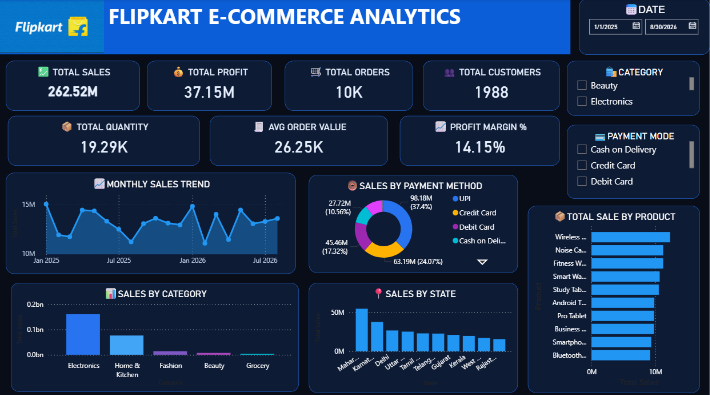

This screenshot's page, from the dashboard's own definition file:
{"tool":"powerbi","page":{"name":"Executive Dashboard","canvas":[1280,720],"ordinal":0},"visuals":[{"type":"card","title":"💹 TOTAL SALES","fields":{"Values":["Ecommerce_Data$.Total Sales"]},"box":[12.6,111.6,241.1,90],"z":0},{"type":"card","title":"💰 TOTAL PROFIT","fields":{"Values":["Ecommerce_Data$.Total Profit"]},"box":[266.3,111.6,224.9,90],"z":1000},{"type":"card","title":"🛒 TOTAL ORDERS","fields":{"Values":["Ecommerce_Data$.Total Orders"]},"box":[514.6,111.6,230.3,90],"z":2000},{"type":"card","title":"👥 TOTAL CUSTOMERS","fields":{"Values":["Ecommerce_Data$.Total Customers"]},"box":[762.9,111.6,246.5,90],"z":3000},{"type":"card","title":"📦 TOTAL QUANTITY","fields":{"Values":["Ecommerce_Data$.Total Quantity"]},"box":[16.2,210.5,345.5,90],"z":4000},{"type":"card","title":"📈 PROFIT MARGIN %","fields":{"Values":["Ecommerce_Data$.Profit Margin %"]},"box":[721.5,210.5,287.9,90],"z":5000},{"type":"textbox","box":[0,0,1029.2,100.8],"z":6000},{"type":"slicer","title":"🛍️CATEGORY","fields":{"Values":["Ecommerce_Data$.Category"]},"box":[1022,111.6,239.3,99],"z":7000},{"type":"slicer","title":"💳PAYMENT MODE","fields":{"Values":["Ecommerce_Data$.Payment_Mode"]},"box":[1022,226.7,239.3,133.2],"z":8000},{"type":"card","title":"🧾 AVG ORDER VALUE","fields":{"Values":["Ecommerce_Data$.Average Order Value"]},"box":[379.7,210.5,320.3,90],"z":9000},{"type":"donutChart","title":"🍩SALES BY PAYMENT METHOD","fields":{"Category":["Ecommerce_Data$.Payment_Mode"],"Y":["Ecommerce_Data$.Total Sales"]},"box":[557.8,316.7,376.1,176.3],"z":10000},{"type":"clusteredColumnChart","title":"📊SALES BY CATEGORY","fields":{"Category":["Ecommerce_Data$.Category"],"Y":["Ecommerce_Data$.Total Sales"]},"box":[21.6,511,518.2,196.1],"z":11000},{"type":"lineChart","title":"📈MONTHLY SALES TREND","fields":{"Y":["Ecommerce_Data$.Total Sales"],"Category":["Ecommerce_Data$.Order_Date.Variation.Date Hierarchy.Year","Ecommerce_Data$.Order_Date.Variation.Date Hierarchy.Month"]},"box":[12.6,313.1,521.8,181.7],"z":12000},{"type":"clusteredColumnChart","title":"📍SALES BY STATE","fields":{"Category":["Ecommerce_Data$.State"],"Y":["Ecommerce_Data$.Total Sales"]},"box":[557.8,511,376.1,197.9],"z":13000},{"type":"clusteredBarChart","title":"📦TOTAL SALE BY PRODUCT","fields":{"Category":["Ecommerce_Data$.Product"],"Y":["Ecommerce_Data$.Total Sales"]},"box":[951.9,372.5,309.5,336.5],"z":14000},{"type":"slicer","title":"📅DATE","fields":{"Values":["Ecommerce_Data$.Order_Date"]},"box":[1043.6,0,235.7,100.8],"z":15000},{"type":"image","box":[0,0,189.2,100.8],"z":16000}]}

Visuals, with their boxes in screenshot pixels (x1, y1, x2, y2), scaled from the page's 1280x720 canvas onto the 710x395 screenshot:
"💹 TOTAL SALES" card: (7, 61, 141, 111)
"💰 TOTAL PROFIT" card: (148, 61, 272, 111)
"🛒 TOTAL ORDERS" card: (285, 61, 413, 111)
"👥 TOTAL CUSTOMERS" card: (423, 61, 560, 111)
"📦 TOTAL QUANTITY" card: (9, 115, 201, 165)
"📈 PROFIT MARGIN %" card: (400, 115, 560, 165)
textbox: (0, 0, 571, 55)
"🛍️CATEGORY" slicer: (567, 61, 700, 116)
"💳PAYMENT MODE" slicer: (567, 124, 700, 197)
"🧾 AVG ORDER VALUE" card: (211, 115, 388, 165)
"🍩SALES BY PAYMENT METHOD" donutChart: (309, 174, 518, 270)
"📊SALES BY CATEGORY" clusteredColumnChart: (12, 280, 299, 388)
"📈MONTHLY SALES TREND" lineChart: (7, 172, 296, 271)
"📍SALES BY STATE" clusteredColumnChart: (309, 280, 518, 389)
"📦TOTAL SALE BY PRODUCT" clusteredBarChart: (528, 204, 700, 389)
"📅DATE" slicer: (579, 0, 709, 55)
image: (0, 0, 105, 55)
